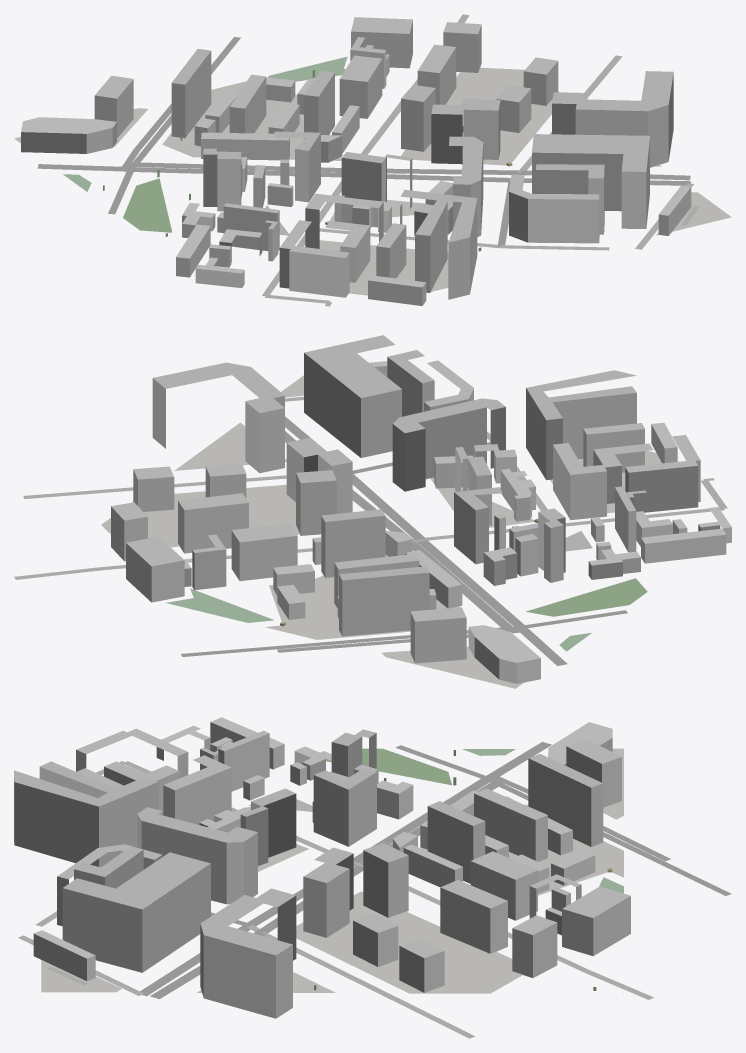
3 renders of one model, top to bottom at view 1: azimuth 30°, elevation 25°; view 2: azimuth 150°, elevation 25°; view 3: azimuth 270°, elevation 25°, orthographic. The views are drawn at different scales.
Bounding box in the file's own units: 614 × 62.46 × 616.
